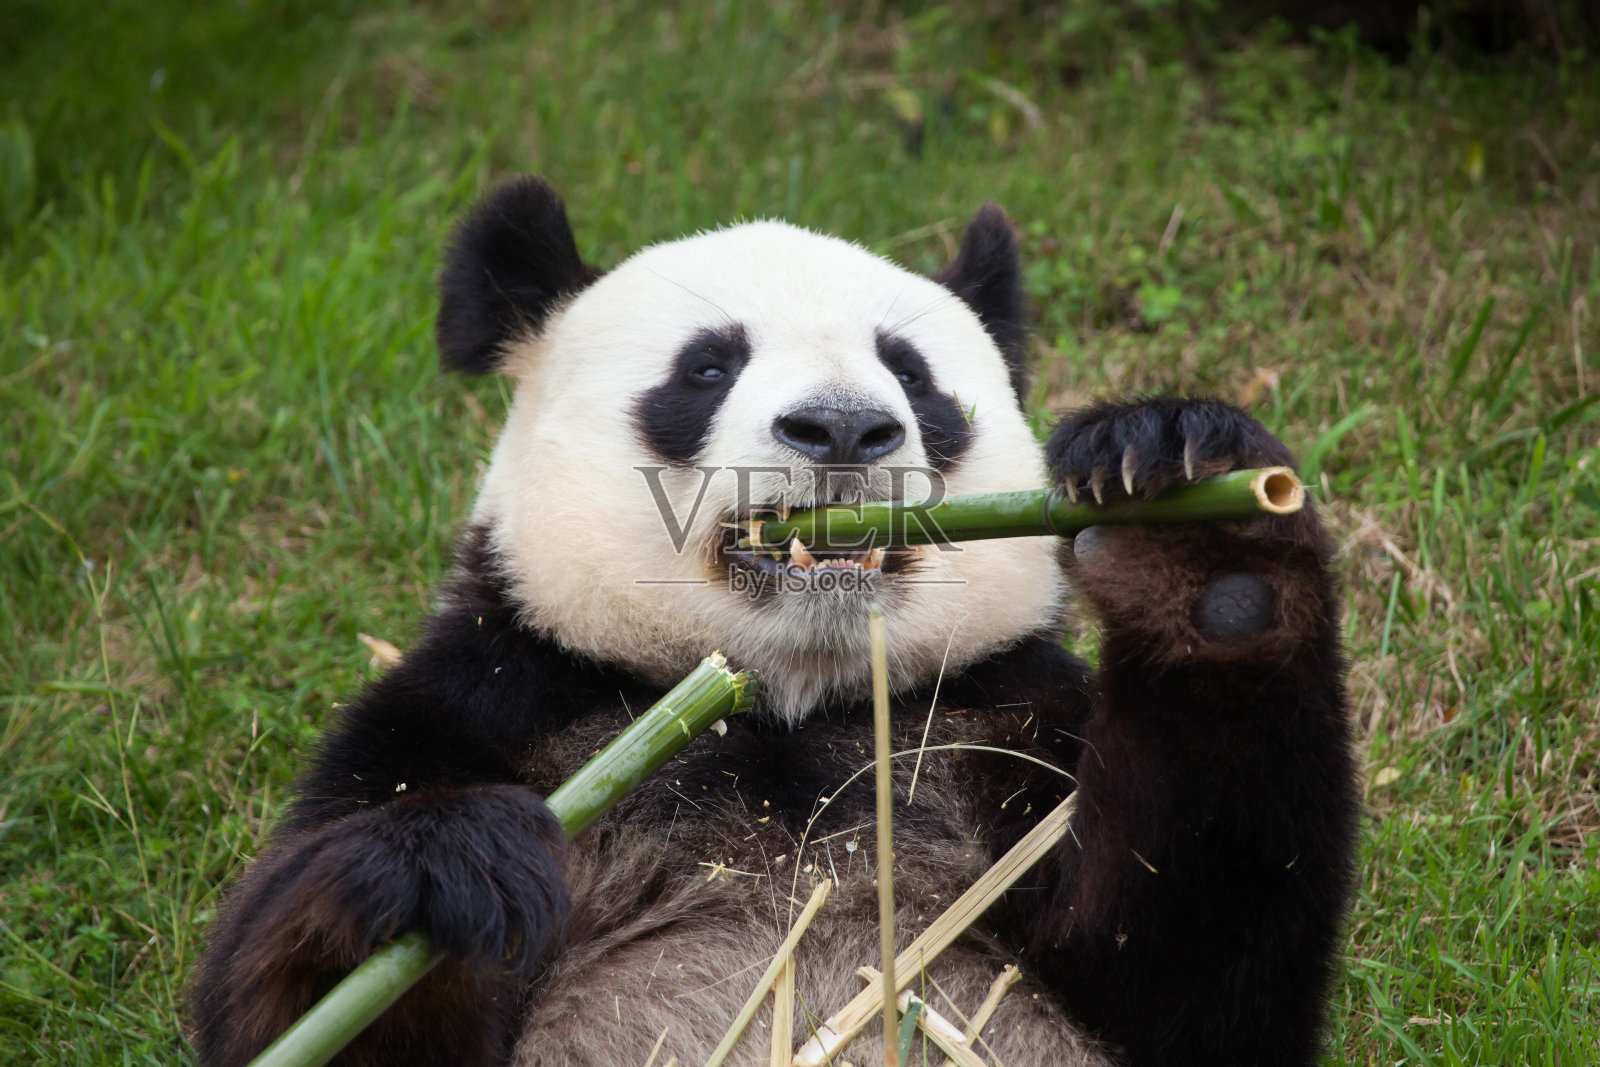panda: (242, 116, 1390, 1025)
